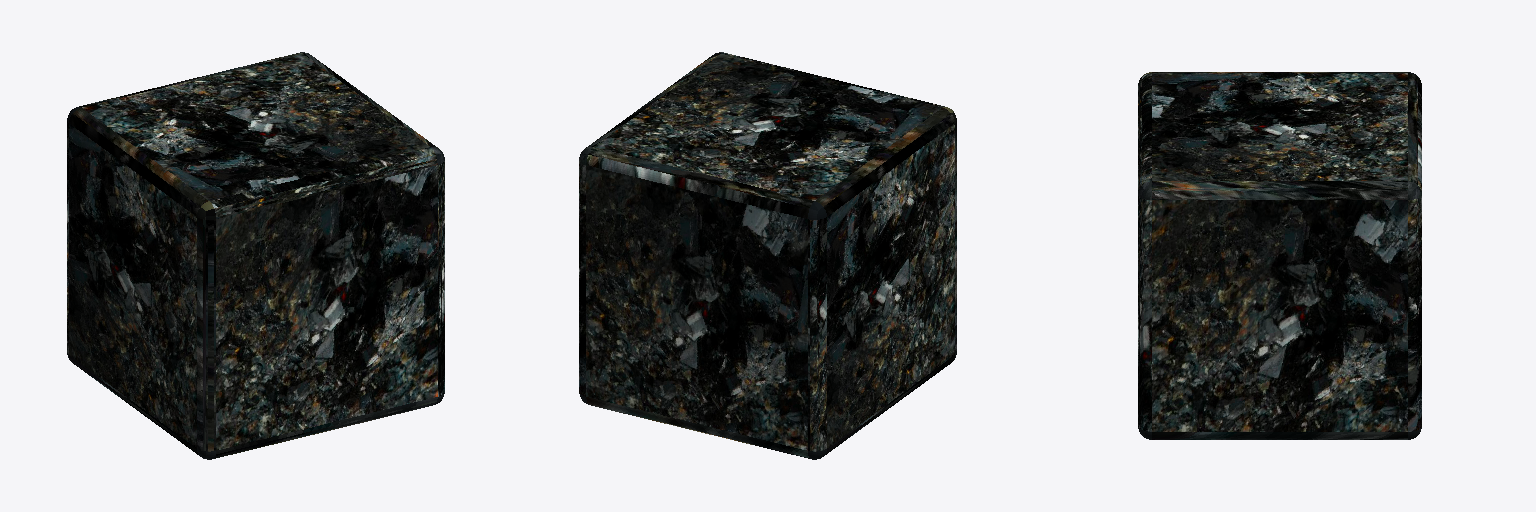
The picture shows the model from 3 angles: view 1: azimuth 30°, elevation 25°; view 2: azimuth 150°, elevation 25°; view 3: azimuth 270°, elevation 25°; orthographic projection.
Parts seen in each view (by area): view 1: Cube; view 2: Cube; view 3: Cube.
Part boxes in pixels (bbox=[...]): Cube: bbox=[67, 52, 444, 459]; Cube: bbox=[579, 52, 956, 459]; Cube: bbox=[1138, 72, 1421, 439].
Bounding box in the file's own units: 2 × 2 × 2.
Materials: 1 (1 with a texture image).